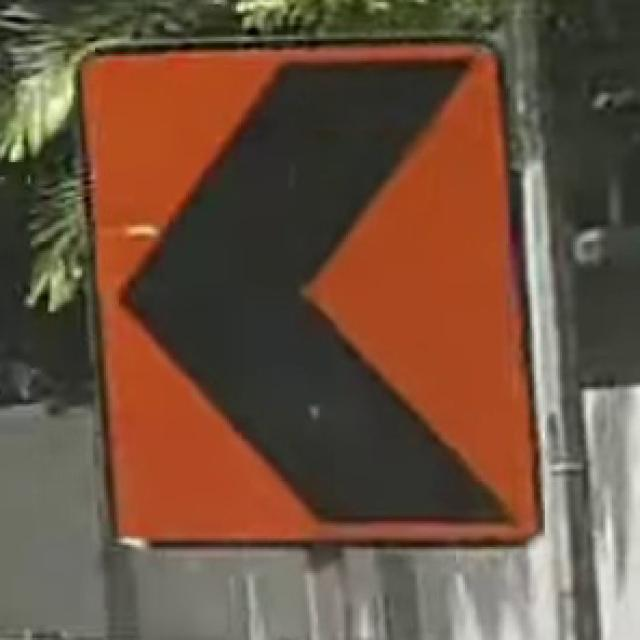curveleft_sign: (74, 37, 547, 551)
